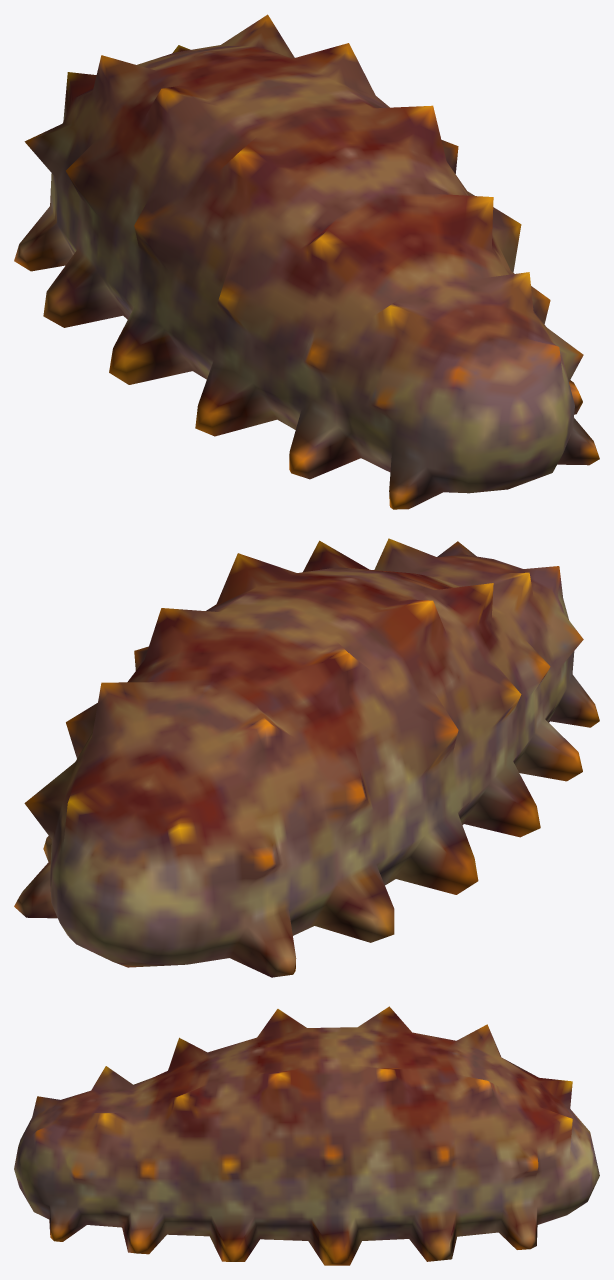
Rendered from sea-cucumber.glb.
The picture shows the model from 3 angles, top to bottom: view 1: azimuth 30°, elevation 25°; view 2: azimuth 150°, elevation 25°; view 3: azimuth 270°, elevation 25°; orthographic projection. The views are drawn at different scales.
Parts seen in each view (by area): view 1: DiveFishNamako__mNamako; view 2: DiveFishNamako__mNamako; view 3: DiveFishNamako__mNamako.
Boxes of the visible parts, x1,y1,x2,y2 form: DiveFishNamako__mNamako: (14, 14, 599, 509); DiveFishNamako__mNamako: (14, 538, 599, 977); DiveFishNamako__mNamako: (14, 1006, 599, 1265).
Bounding box in the file's own units: 0.5058 × 0.3297 × 1.
1 material, 1 textured.
